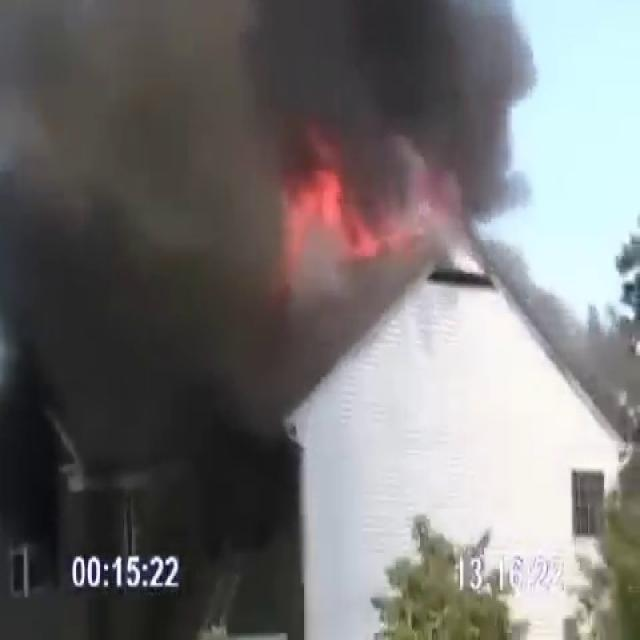Smoke: (0, 1, 327, 639), (2, 1, 546, 262)
